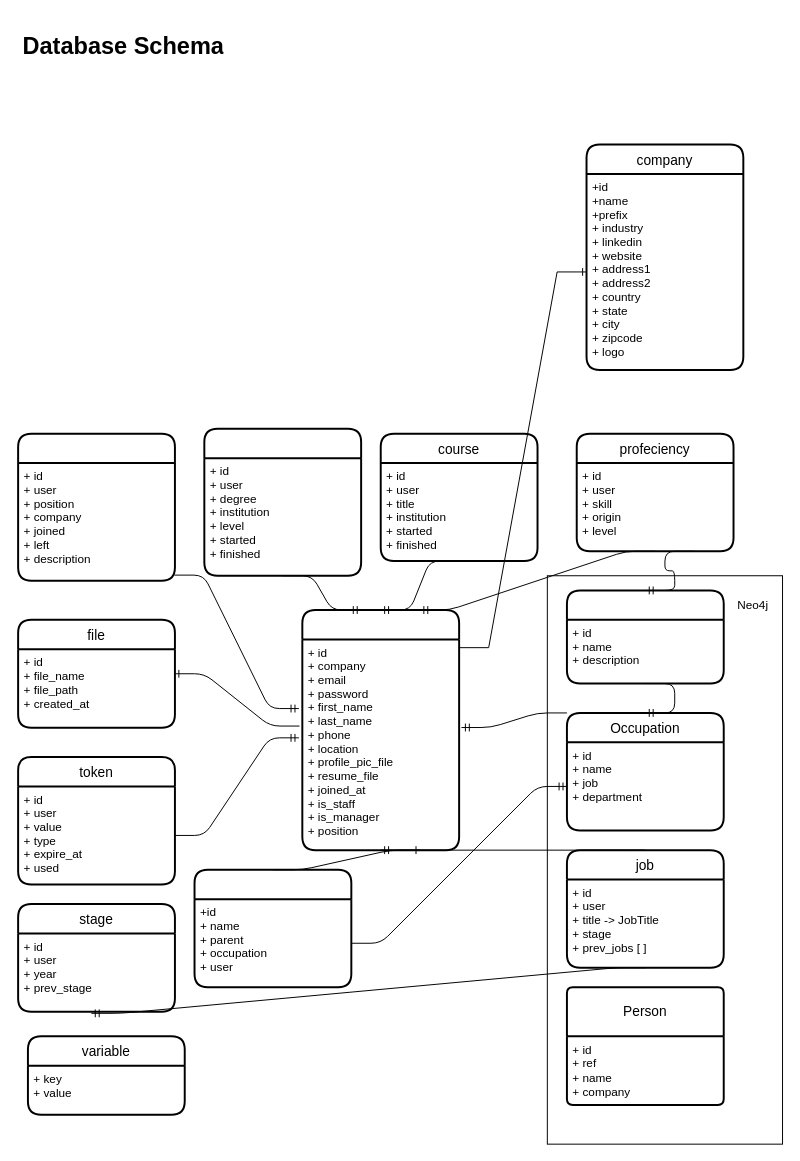
Some shapes in this 800 by 1161 pixel diagram are drawn without their labels. Here are the shapes that lost their labels. From the top down, the box of each, then its label:
(17, 432, 175, 581): Experience
(203, 427, 362, 576): Education
(565, 589, 724, 684): skill
(301, 609, 460, 851): User
(193, 868, 352, 988): position
